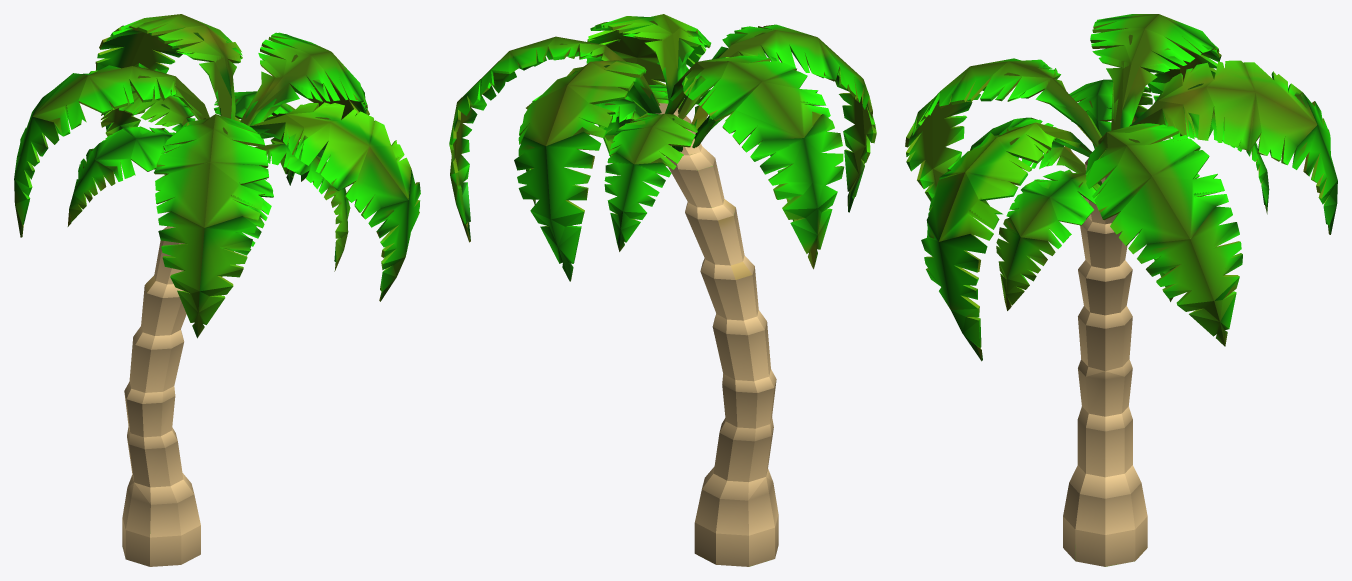
Rendered from palm4.fbx.
The picture shows the model from 3 angles, left to right: view 1: azimuth 30°, elevation 25°; view 2: azimuth 150°, elevation 25°; view 3: azimuth 270°, elevation 25°; orthographic projection. The views are drawn at different scales.
Parts seen in each view (by area): view 1: palm4_LOD0; view 2: palm4_LOD0; view 3: palm4_LOD0.
Part boxes in pixels (x1=…): palm4_LOD0: x1=14, y1=14, x2=420, y2=566; palm4_LOD0: x1=449, y1=14, x2=876, y2=566; palm4_LOD0: x1=905, y1=14, x2=1337, y2=566.
Size of what is drawn, in the model's own units: 3.64 by 4.81 by 3.67.
